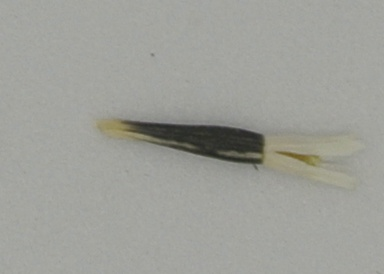เมล็ดดีติดกัน: (95, 111, 366, 190)
